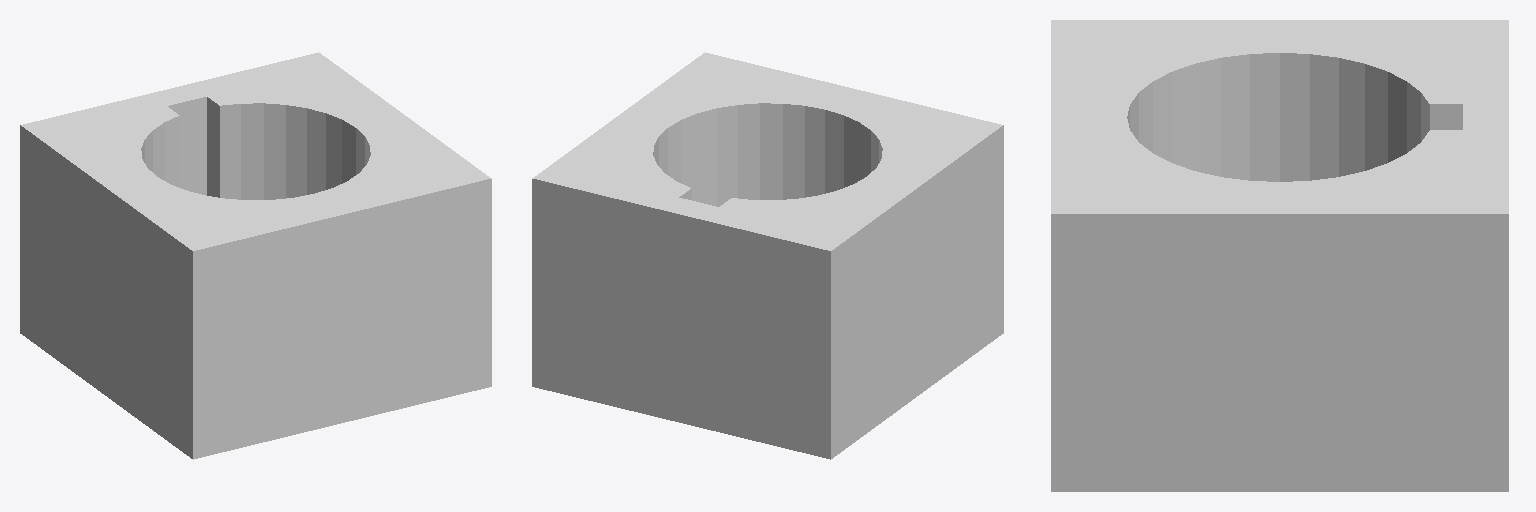
URDF robot description (base):
<?xml version="1.0" ?>

<robot name="base">
	<link name="base">
<!-- 	    <contact>
	      <stiffness value="3000.0"/>
	      <damping value="1000.0"/>
	      <lateral_friction value="0.000"/>
	      <spinning_friction value="0"/>
	      <rolling_friction value="0"/>
	    </contact> -->
		<inertial>
			<origin xyz="0 0 0"/>
			<mass value="0.1"/>
			<inertia ixx="0.1" ixy="0" ixz="0" iyy="0.1" iyz="0" izz="0.1"/>
		</inertial>
		<visual>
			<origin rpy="0 0 0" xyz="0 0 0"/>
	      	<geometry>
	        	<mesh filename="base.obj"/>
	      	</geometry>
	  		<material name="panda_white">
	  			<color rgba="0.91 0.91 0.91 1."/>
				</material>
		</visual>
		<collision concave="yes">
	  		<origin rpy="0 0 0" xyz="0 0 0"/>
	  		<geometry>
	    		<mesh filename="base.obj"/>
	  		</geometry>
	  		<material name="panda_white"/>
		</collision>
	</link>

</robot>

--- What the picture shows (computed from the rendered views, not written in the file) ---
3 views of the same robot in one strip: view 1: azimuth 30°, elevation 25°; view 2: azimuth 150°, elevation 25°; view 3: azimuth 270°, elevation 25° (orthographic).
Robot: base — 1 links, 0 joints (none); root link base; default pose: every joint at zero.
Links seen in each view (by area): view 1: base; view 2: base; view 3: base.
Boxes of the visible links, left/top/right/bottom form: base: left=20, top=52, right=491, bottom=459; base: left=532, top=52, right=1003, bottom=459; base: left=1051, top=20, right=1508, bottom=491.
Size in the robot's own frame: 0.03 by 0.03 by 0.02 metres.
1 mesh visuals loaded from 1 distinct referenced files (1 OBJ).